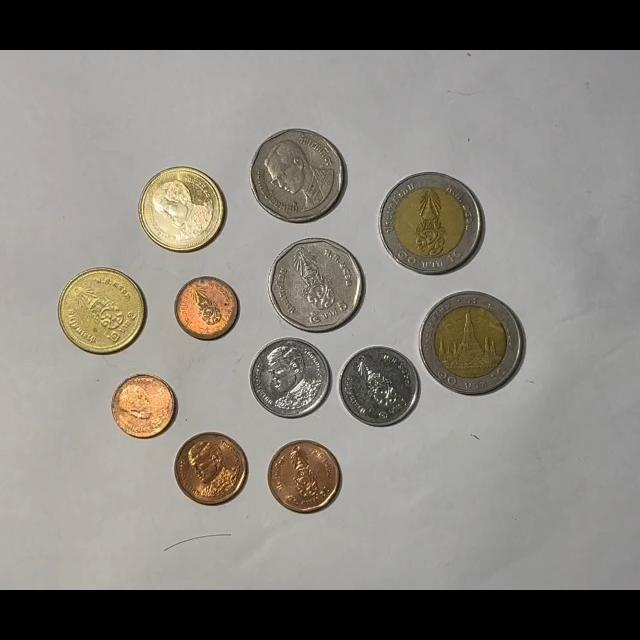1-baht: (249, 336, 331, 418), (339, 345, 420, 427)
10-baht: (419, 290, 525, 396), (378, 172, 485, 275)
2-baht: (58, 267, 146, 355), (138, 166, 226, 253)
25-satang: (111, 373, 178, 439), (174, 276, 240, 341)
5-baht: (250, 128, 347, 224), (268, 238, 365, 333)
50-satang: (174, 432, 249, 506), (267, 440, 342, 513)
